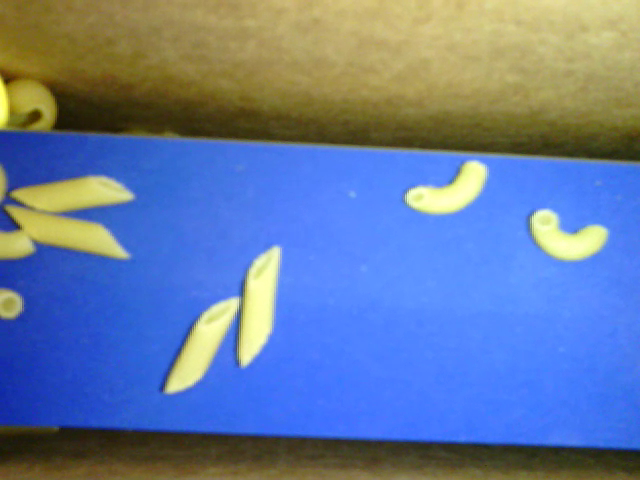elbow: (526, 205, 608, 262), (405, 160, 489, 215)
penne: (163, 293, 241, 396), (4, 204, 132, 262), (236, 245, 283, 370), (8, 173, 135, 215)
shell: (1, 77, 63, 136)
